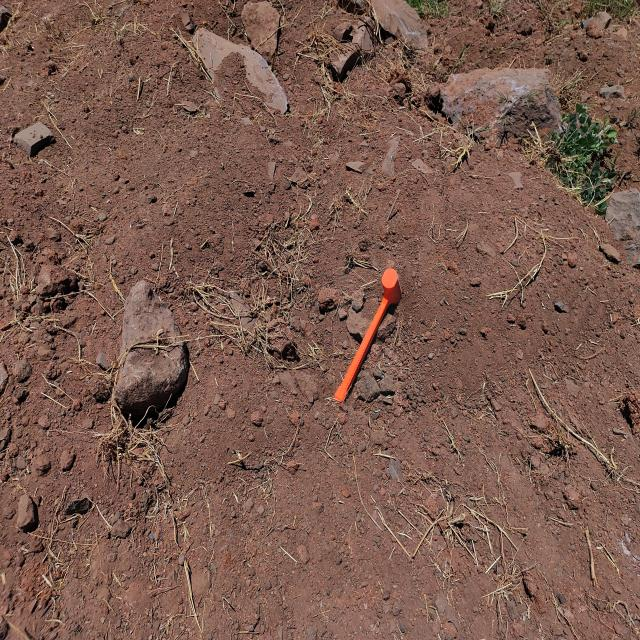Orange_hammer: (333, 267, 402, 403)
